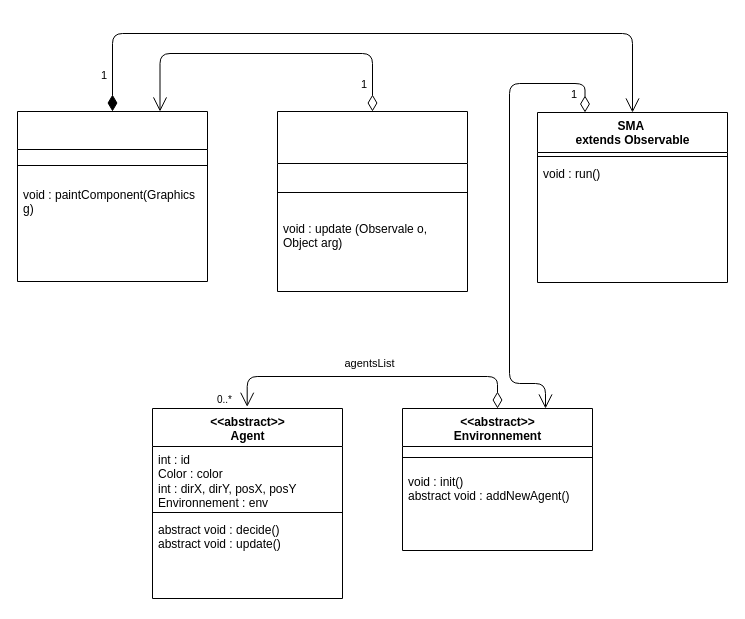
Some shapes in this 745 by 619 pixel diagram are drawn without their labels. The shapes that lost their labels are listed below. From the top down, each one's box as (x1, y1, x2, y2) in pixels, then its label:
(16, 110, 208, 282): MyPanel extends Jpanel
(276, 110, 468, 292): Vue extends JFrame implements Observer
